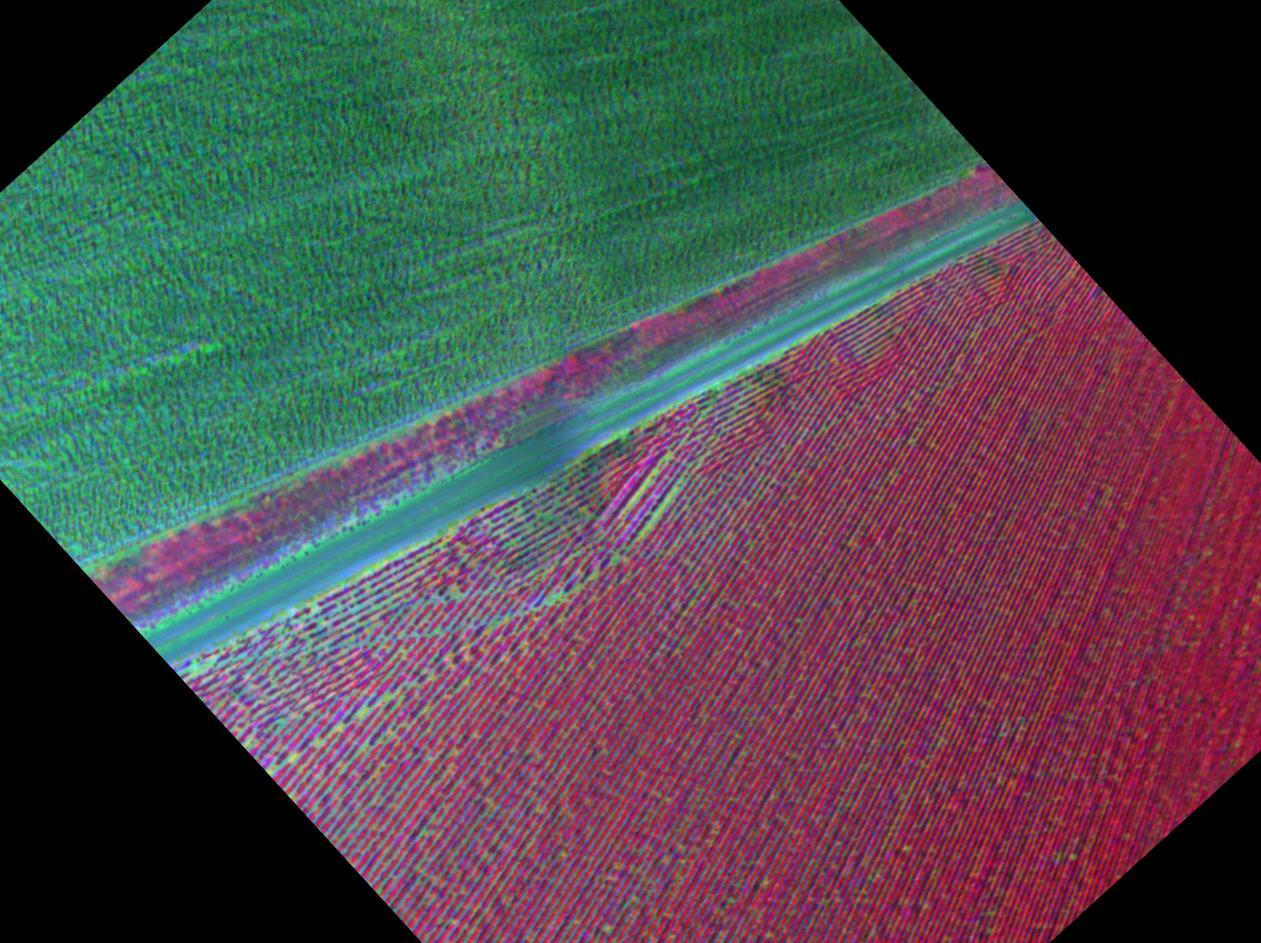dc: (360, 709, 367, 716), (314, 741, 321, 748), (647, 524, 652, 529), (435, 629, 440, 634)
